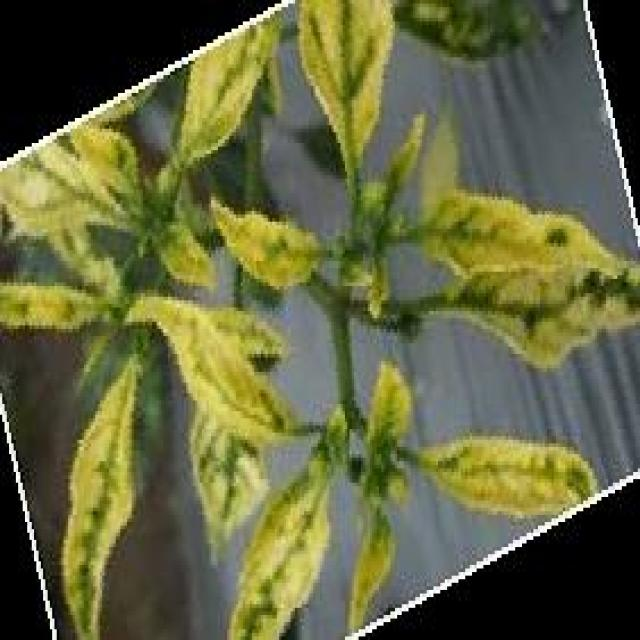Rust: (442, 250, 640, 361), (425, 438, 595, 514)
